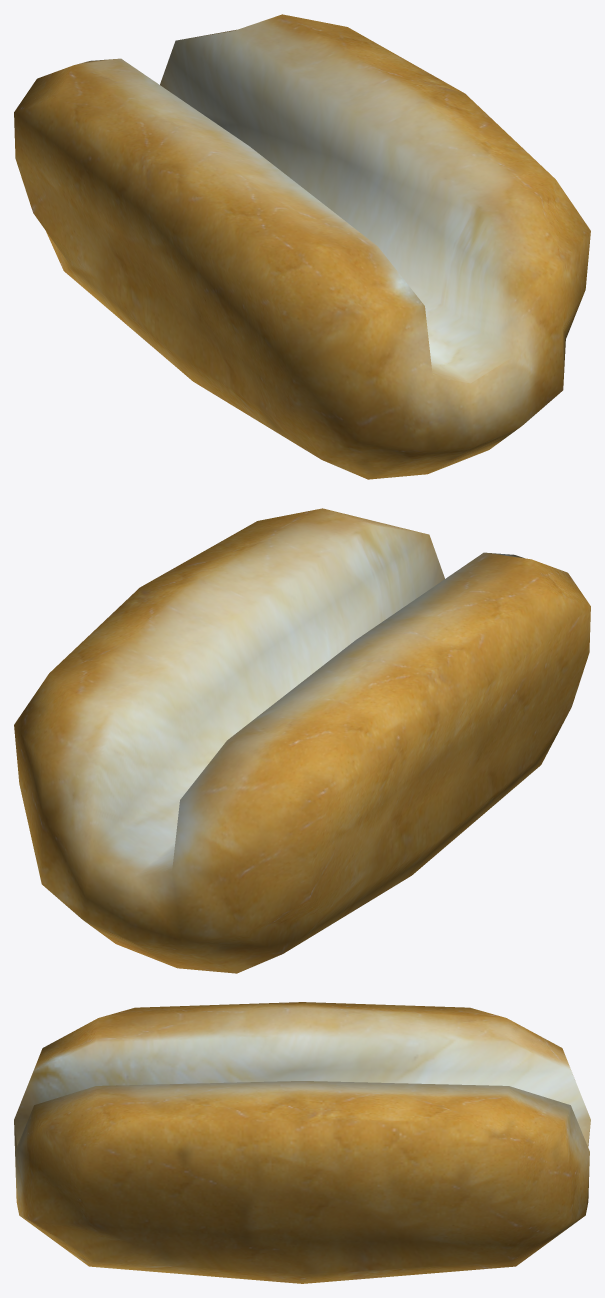
File: hotdog_bun.fbx
The picture shows the model from 3 angles, top to bottom: view 1: azimuth 30°, elevation 25°; view 2: azimuth 150°, elevation 25°; view 3: azimuth 270°, elevation 25°; orthographic projection. The views are drawn at different scales.
Parts seen in each view (by area): view 1: HotDogBun; view 2: HotDogBun; view 3: HotDogBun.
Part boxes in pixels (x1,y1,x2,y2): HotDogBun: [14, 14, 590, 479]; HotDogBun: [14, 508, 590, 973]; HotDogBun: [14, 1002, 590, 1283].
Bounding box in the file's own units: 36.18 × 28.55 × 66.59.
